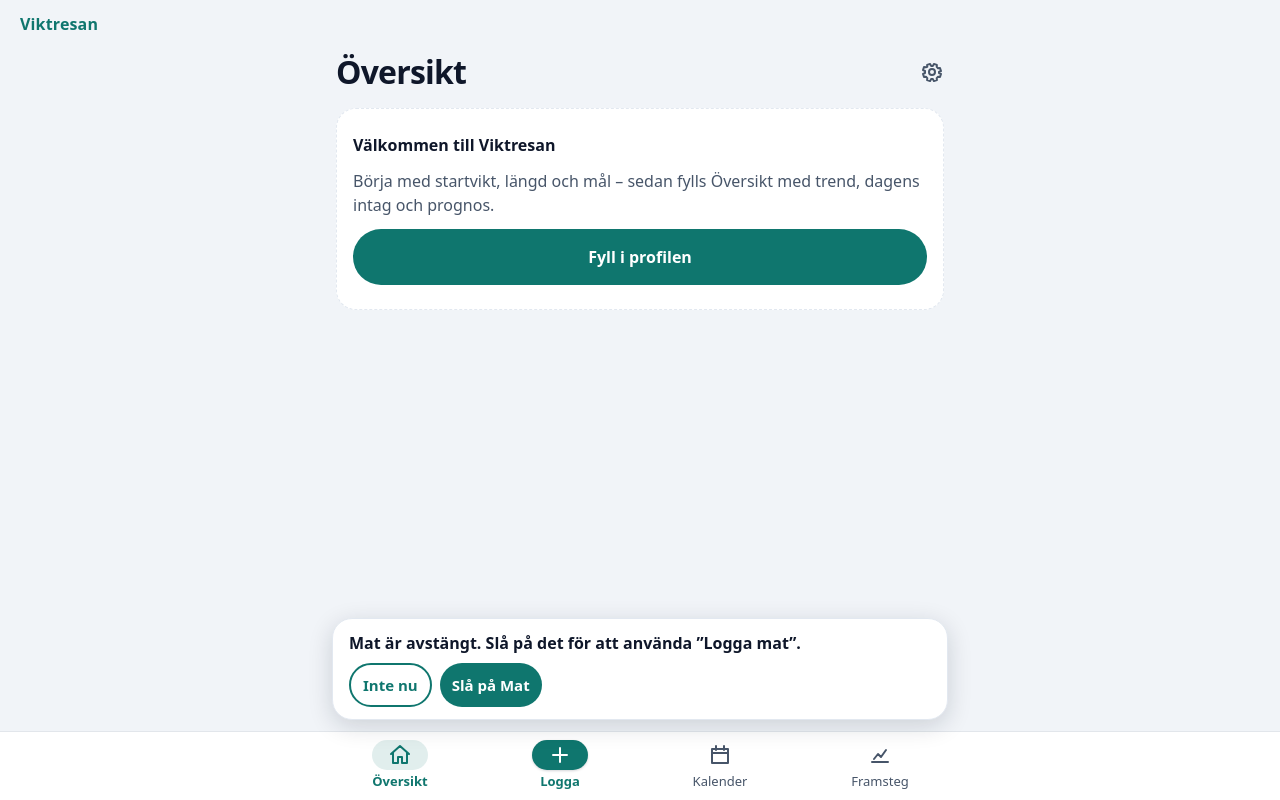
genvägar på appikonen › avstängd mat: Inte nu stänger meddelandet utan att slå på
This screenshot has width=1280, height=800.
Expected: the element with test id "shortcut-toast" shows "Mat är avstängt", [332,618,948,720]
Click the button "Inte nu". click: coordinates (390, 685)
box: [349,663,432,707]
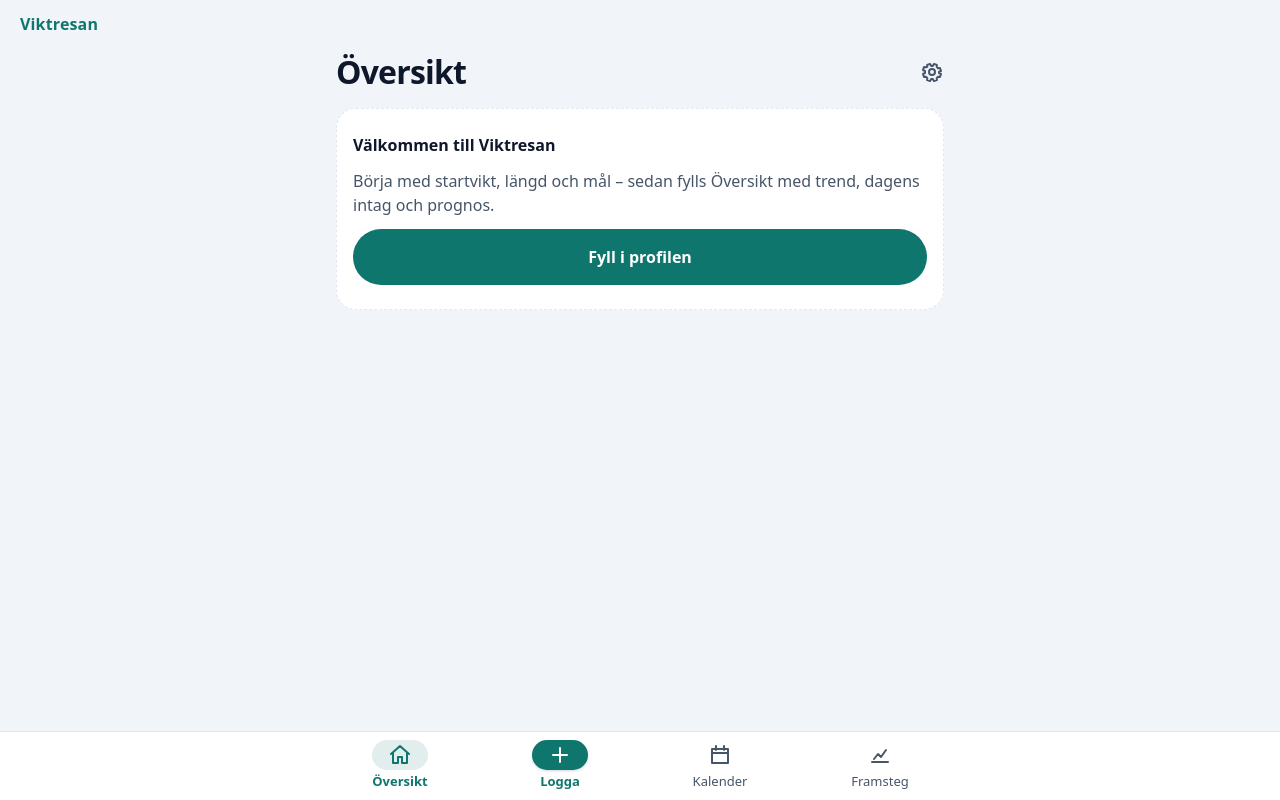
Now the element with test id "shortcut-toast" is gone
